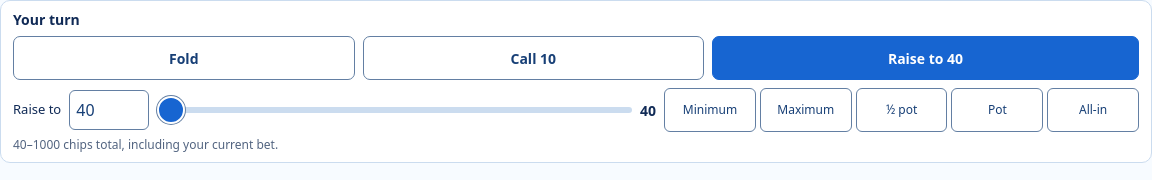
Scenario: PokerActionPanel › rejects invalid amount 40.5 with inline feedback
The image size is (1152, 180).
Replace the text in the number field labelled "Raise to" with "40.5". click: (109,110)
box: [69,90,149,130]
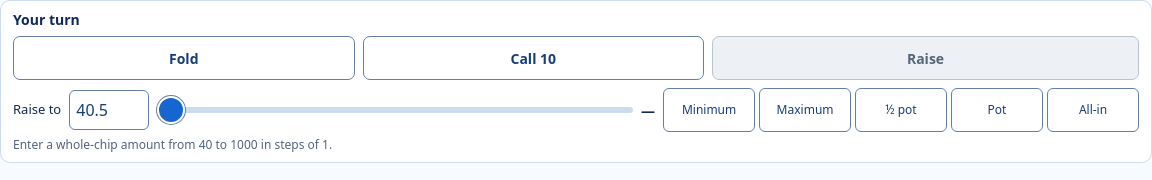
Expected: the button "Raise" is disabled, [712,36,1139,80]
Expected: the text "Enter a whole-chip amount from 40 to 1000 in steps of 1." is shown, [13,136,332,153]
